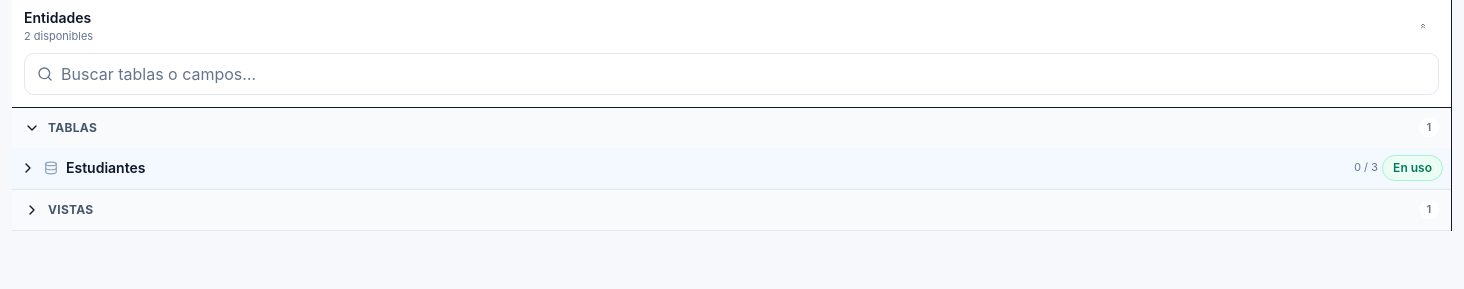
Scenario: QueryCatalogPanel › separates tables and views into collapsible catalog sections
Click the button "Vistas 1": click(71, 209) [12,190,1451,230]
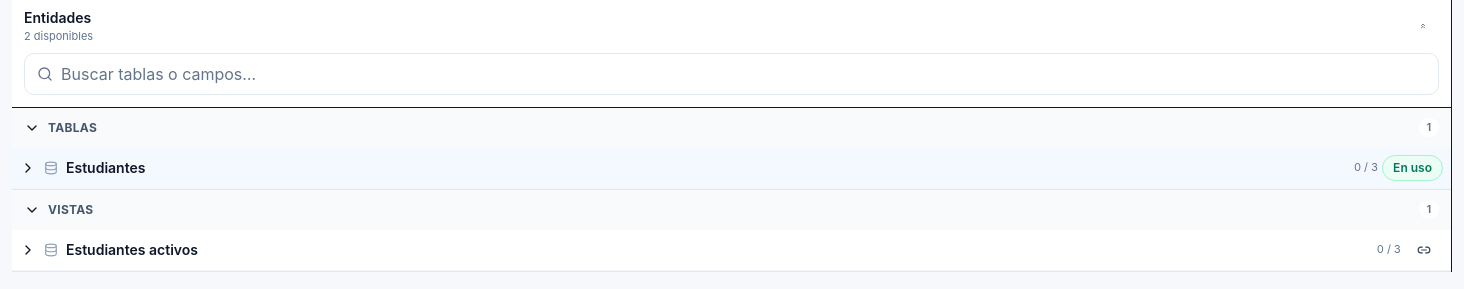
Check: the button "Estudiantes activos 0 / 3" is shown, box [20,236,1401,264]
